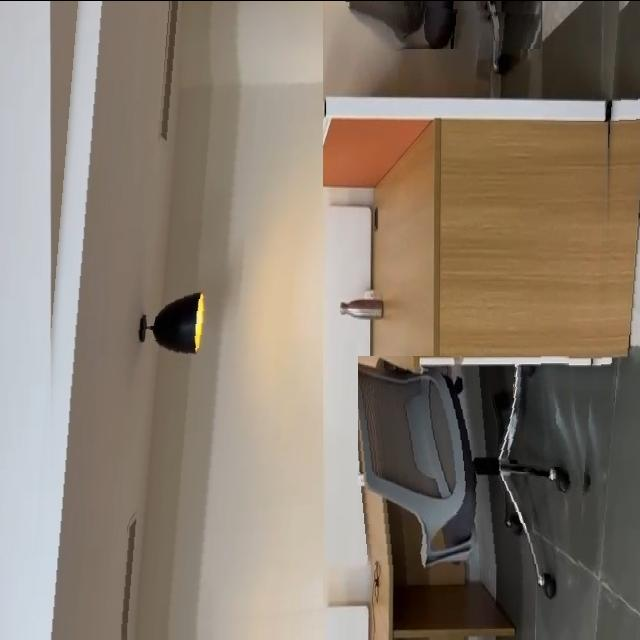floor: (572, 0, 640, 640)
furniture: (358, 355, 589, 570), (331, 0, 541, 48)
wall: (26, 0, 323, 640)
